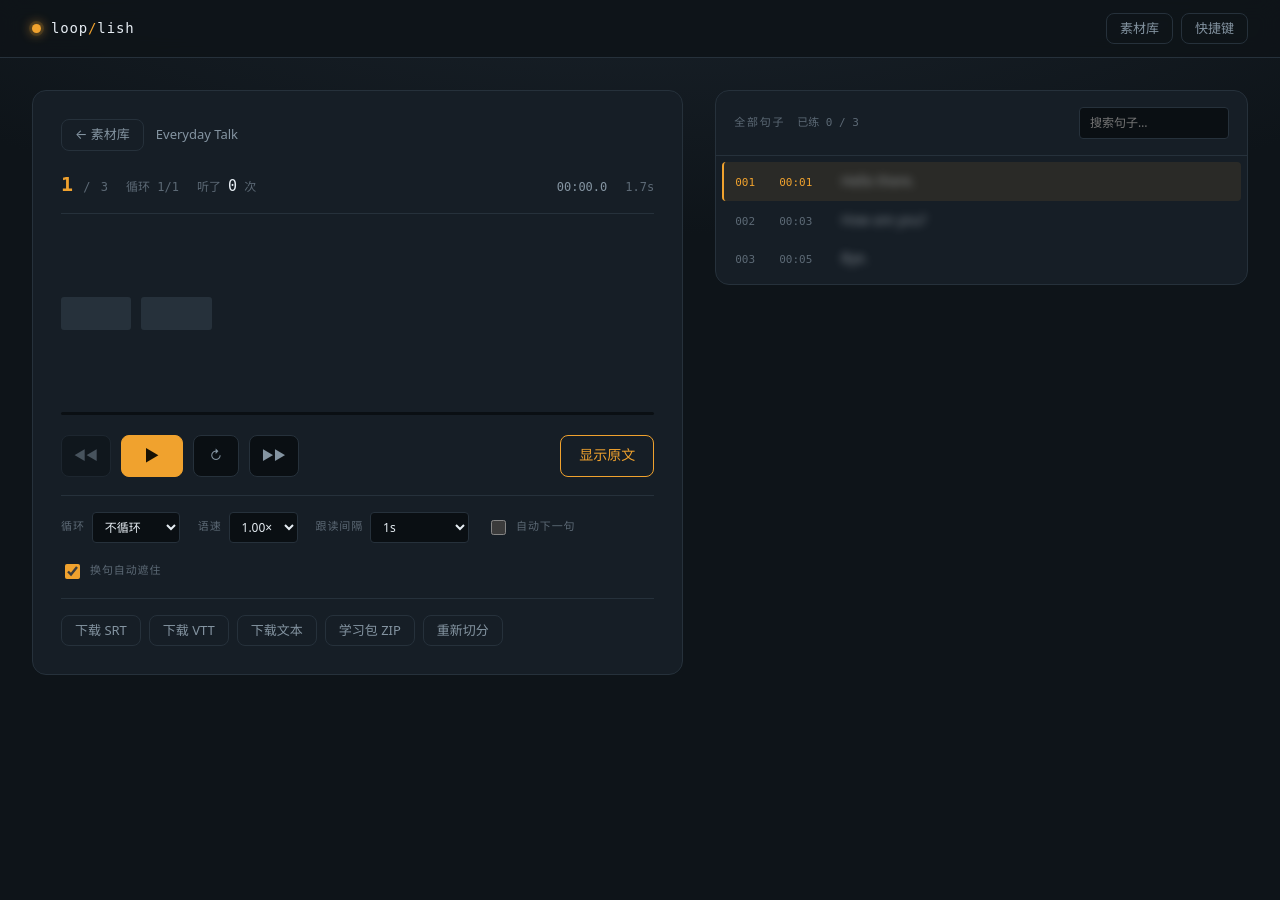
Test: audio boundaries › shows a readable error and returns to paused when the browser refuses to play
This screenshot has width=1280, height=900.
Expected: the heading named "第 1 / 3 句" is shown, [61, 169, 108, 199]
Click the button "▶" at (152, 456), box [121, 435, 183, 477]
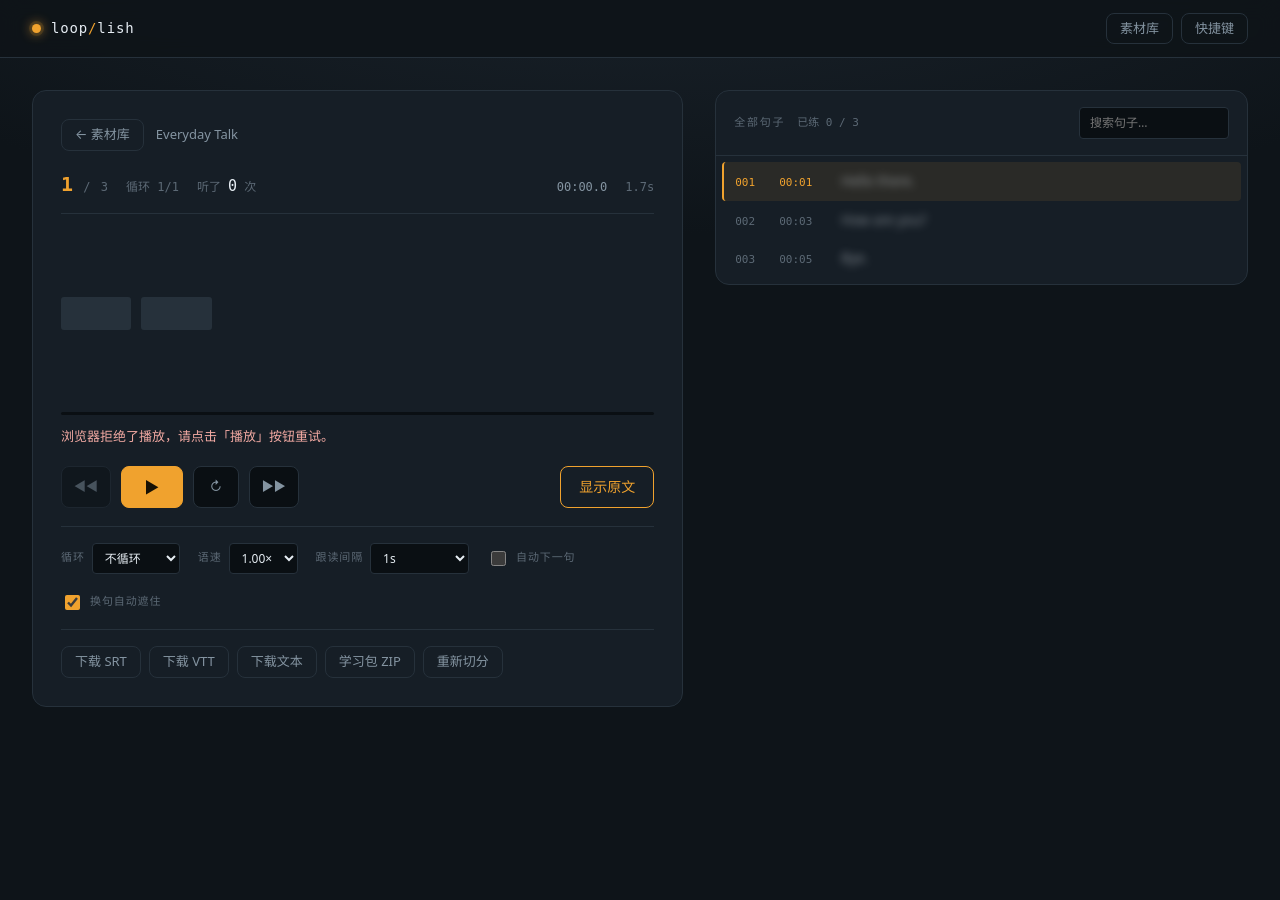
Expected: the text "已练 0 / 3" is shown, [797, 115, 859, 131]
Expected: the message "浏览器拒绝了播放，请点击「播放」按钮重试。" is shown, [61, 427, 334, 445]
